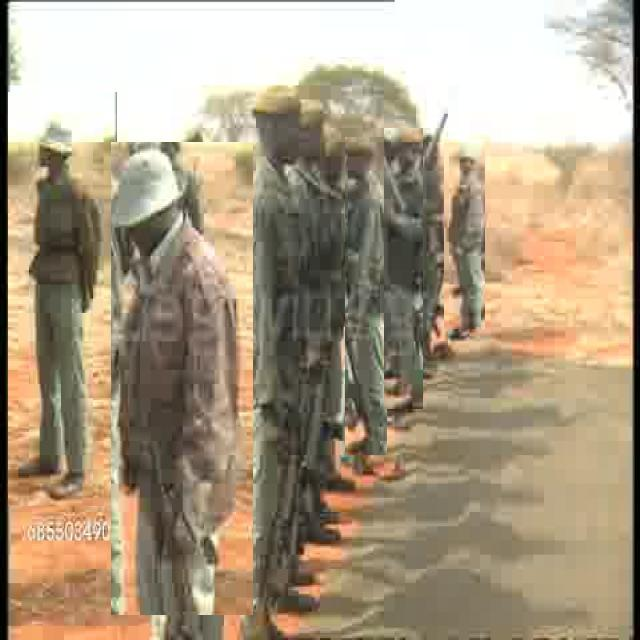poacher: (111, 142, 253, 615), (8, 92, 117, 506), (234, 83, 310, 602), (345, 137, 387, 455), (384, 128, 423, 409), (444, 139, 485, 329)
weapon: (396, 112, 450, 214)
